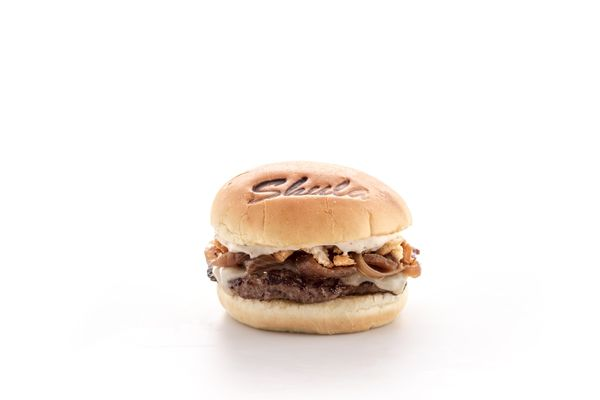soup: (204, 160, 422, 334)
